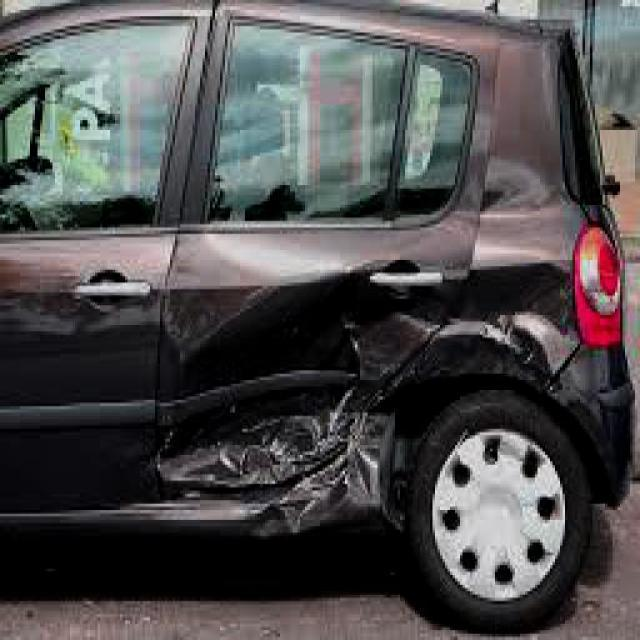car damage: (148, 150, 577, 547)
